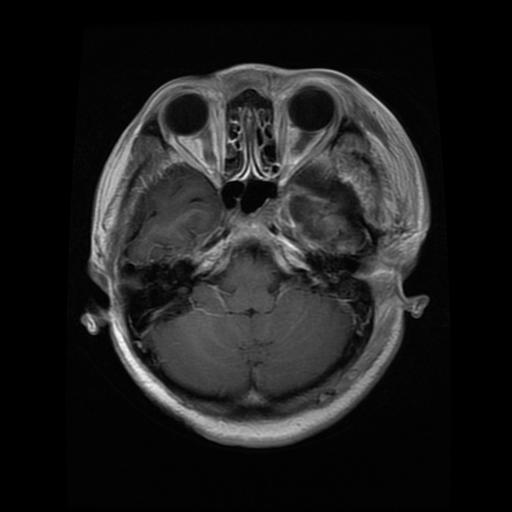Gliomia_tumour: (288, 168, 366, 249)
